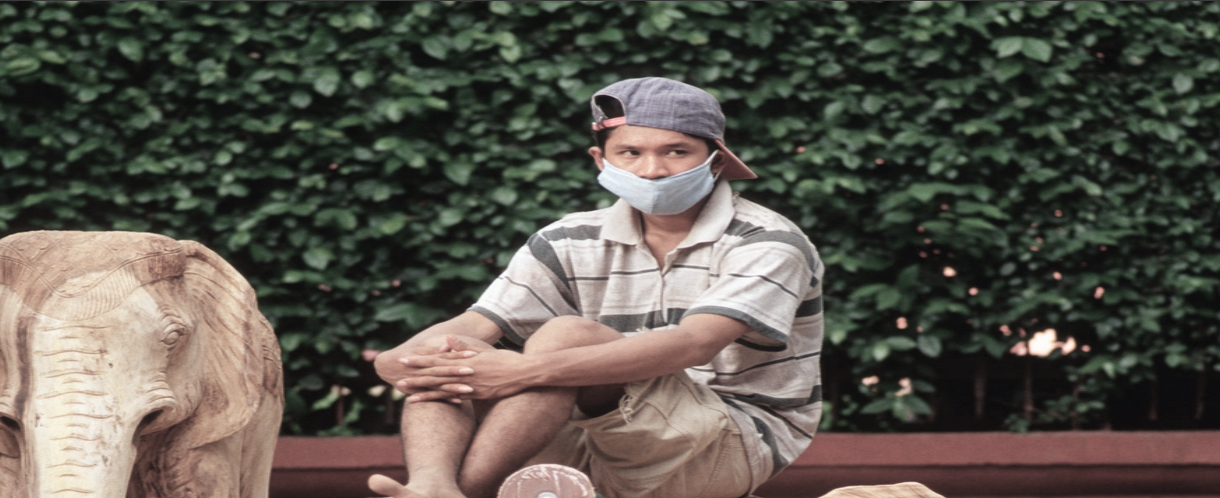mask_weared_incorrect: (582, 75, 748, 227)
